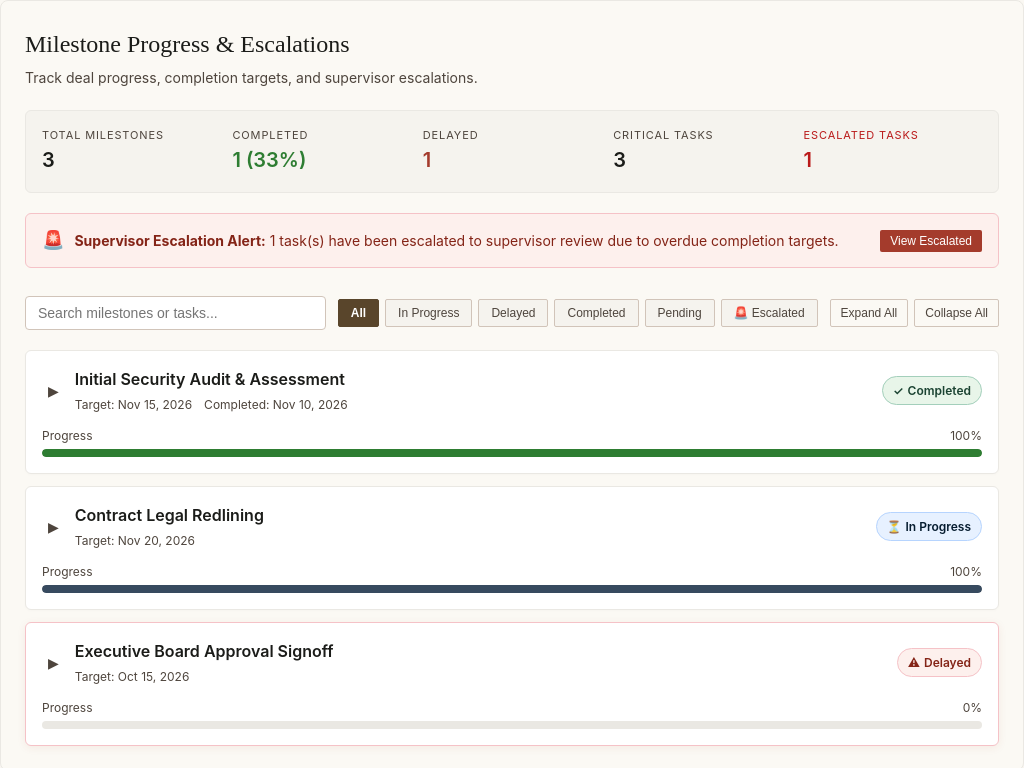
Test: MilestoneTracker Component › Filtering and Interaction Controls › filters to escalated milestones via escalated filter tab
Click the button with test id "filter-btn-escalated". click: (769, 313)
box: [721, 299, 818, 327]
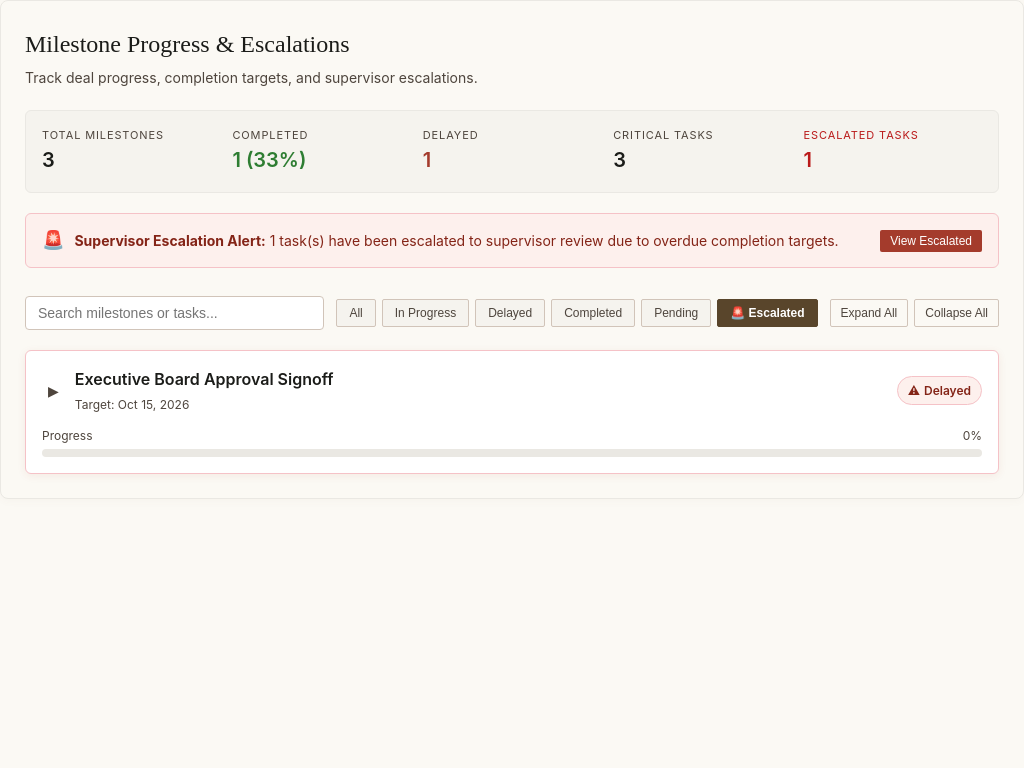
Check: the element with test id "milestone-item-ms-3" is shown, box [25, 350, 999, 474]
Check: the element with test id "milestone-item-ms-1" is gone
